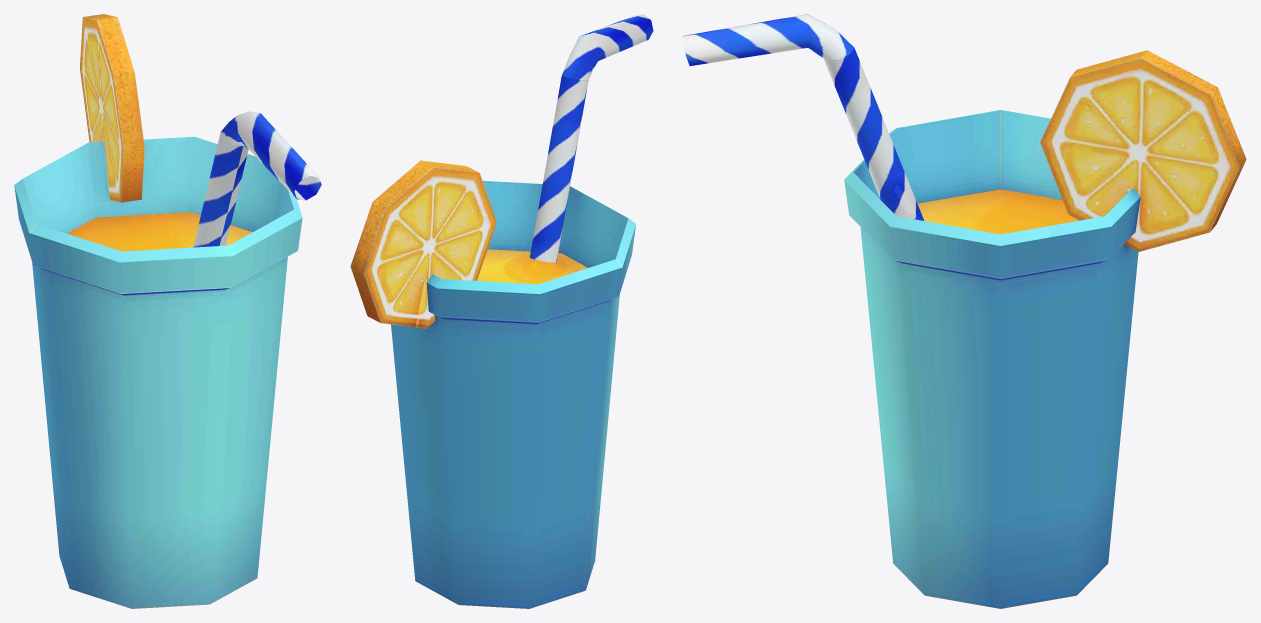
The picture shows the model from 3 angles, left to right: view 1: azimuth 30°, elevation 25°; view 2: azimuth 150°, elevation 25°; view 3: azimuth 270°, elevation 25°; orthographic projection. The views are drawn at different scales.
Visible parts, largest first — view 1: drink; view 2: drink; view 3: drink.
Boxes of the visible parts, box(x1,y1,x2,y2) form: drink: box(14, 14, 321, 608); drink: box(350, 14, 653, 608); drink: box(682, 14, 1246, 608).
Size of the model in its own units: 1.03 by 2 by 1.86.
1 material, 1 textured.
